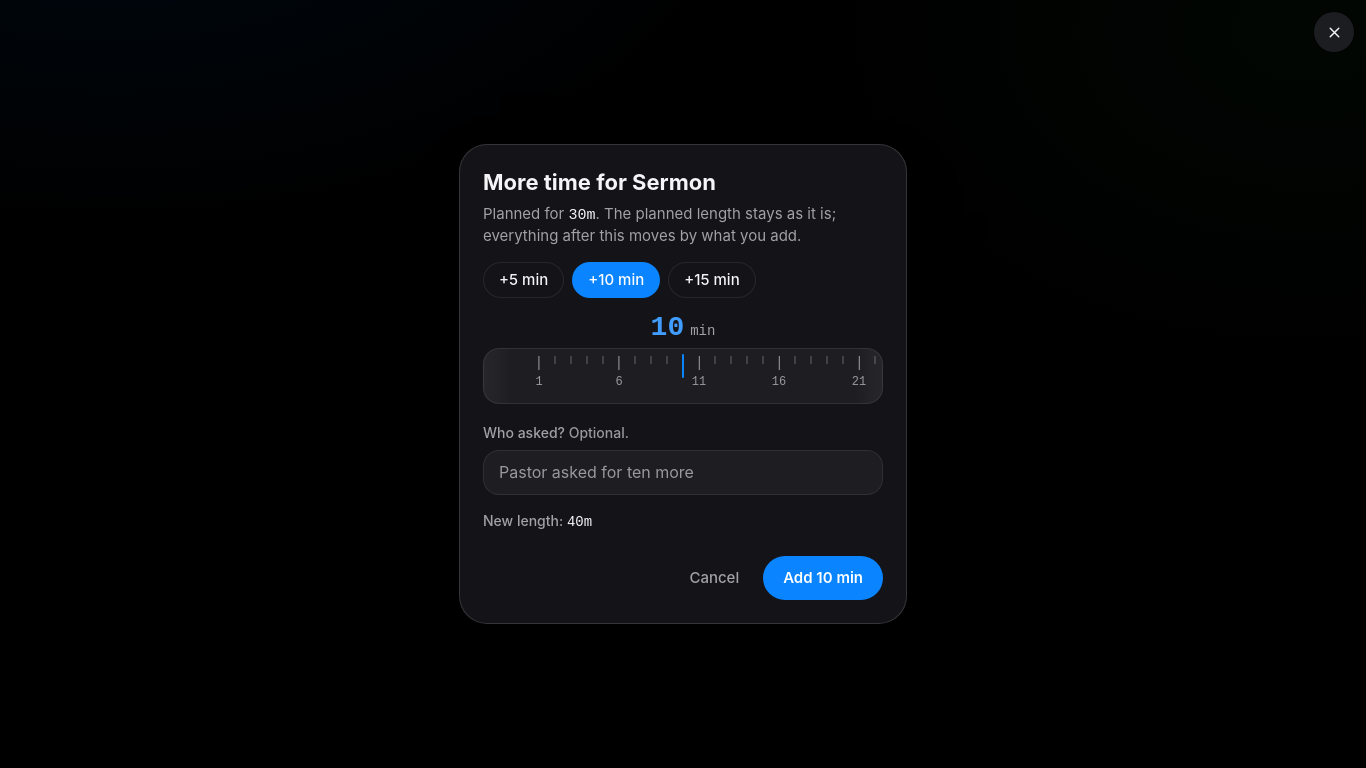
Scenario: AddTimeDialog › shows what the session will run to before it is agreed
This screenshot has width=1366, height=768.
expect the text "40m" is shown: met, box [567,514,592,530]
Click the button "+15 min". click: [712, 280]
box: [668,262,756,298]
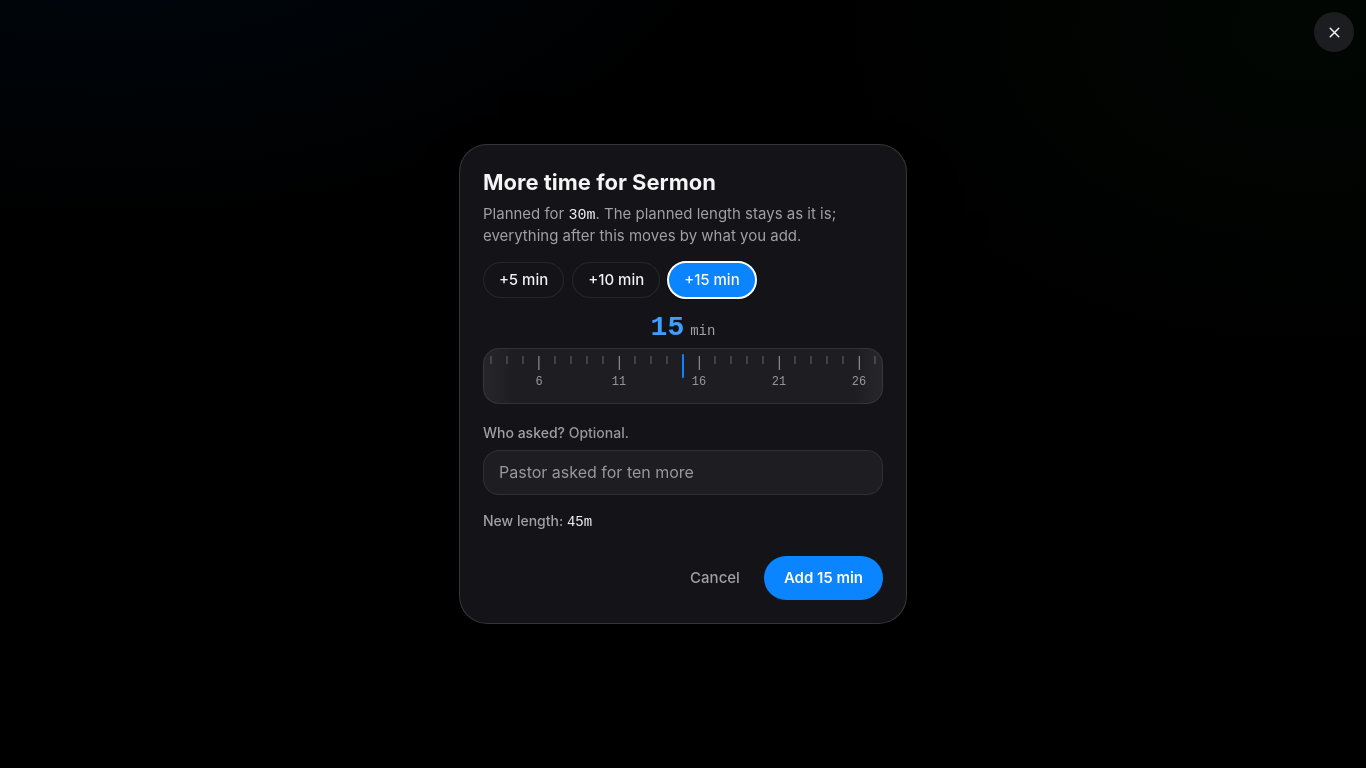
expect the text "45m" is shown: met, box [567,514,592,530]
